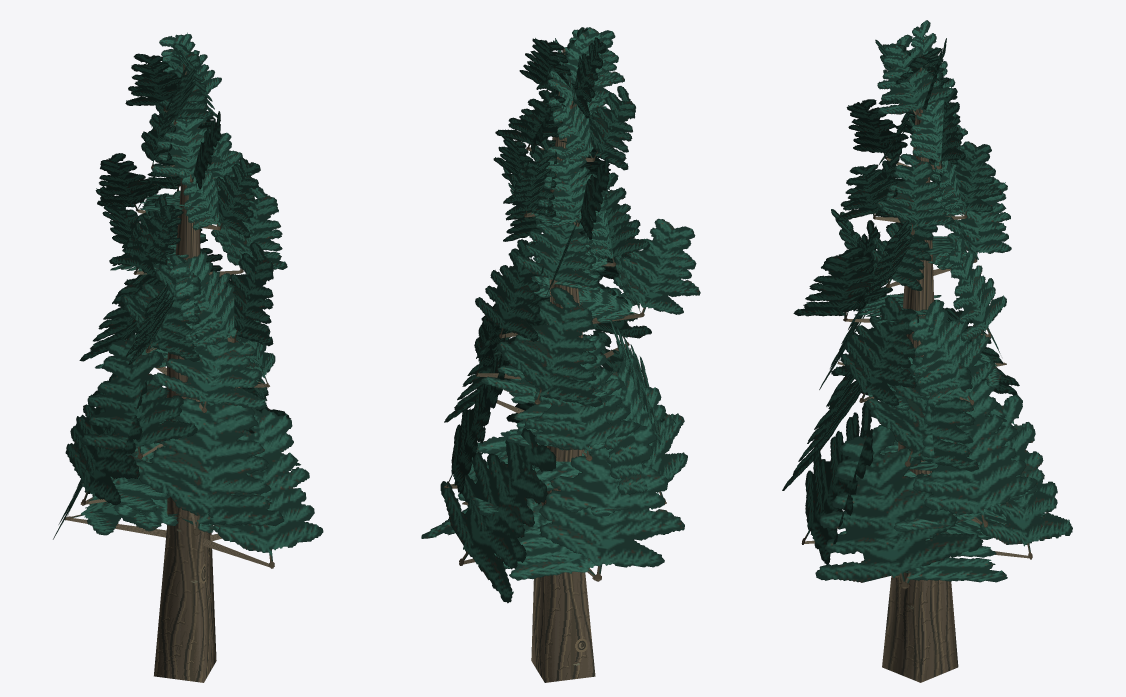
File: whorled-pine-mobile.glb
3 renders of one model, left to right at view 1: azimuth 30°, elevation 25°; view 2: azimuth 150°, elevation 25°; view 3: azimuth 270°, elevation 25°, orthographic. The views are drawn at different scales.
Parts seen in each view (by area): view 1: Whorled pine mobile v3 runtime; view 2: Whorled pine mobile v3 runtime; view 3: Whorled pine mobile v3 runtime.
Boxes of the visible parts, x1,y1,x2,y2 form: Whorled pine mobile v3 runtime: (53, 32, 323, 682); Whorled pine mobile v3 runtime: (421, 27, 700, 682); Whorled pine mobile v3 runtime: (782, 20, 1072, 682).
Bounding box in the file's own units: 4.86 × 10.26 × 5.05.
Materials: 1 (1 with a texture image).
